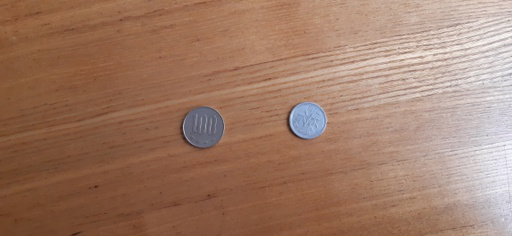100yen: (183, 107, 224, 148)
1yen: (289, 102, 327, 139)
